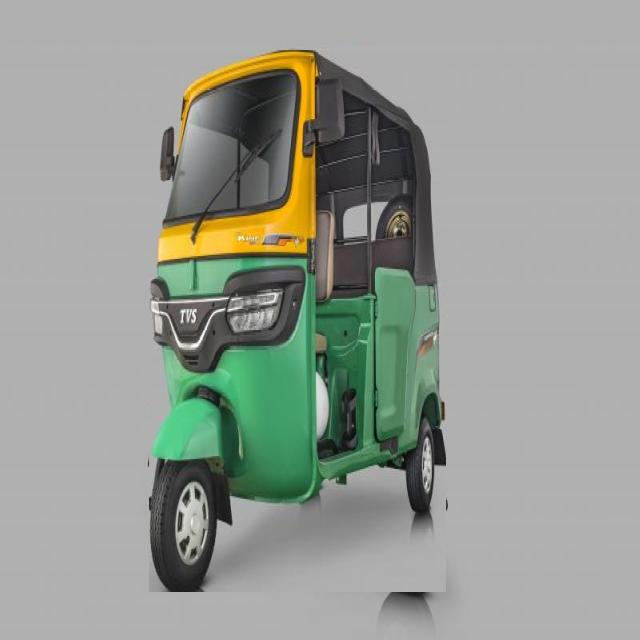autorickshaw: (149, 51, 446, 592)
